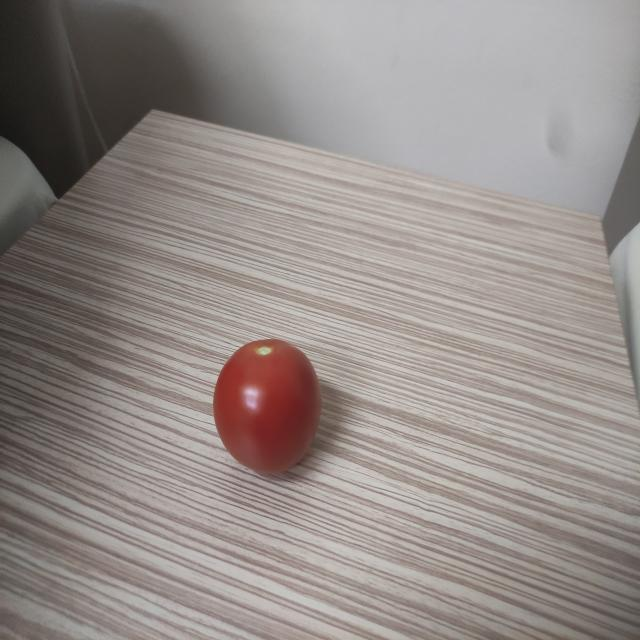kirmizi: (204, 321, 340, 483)
